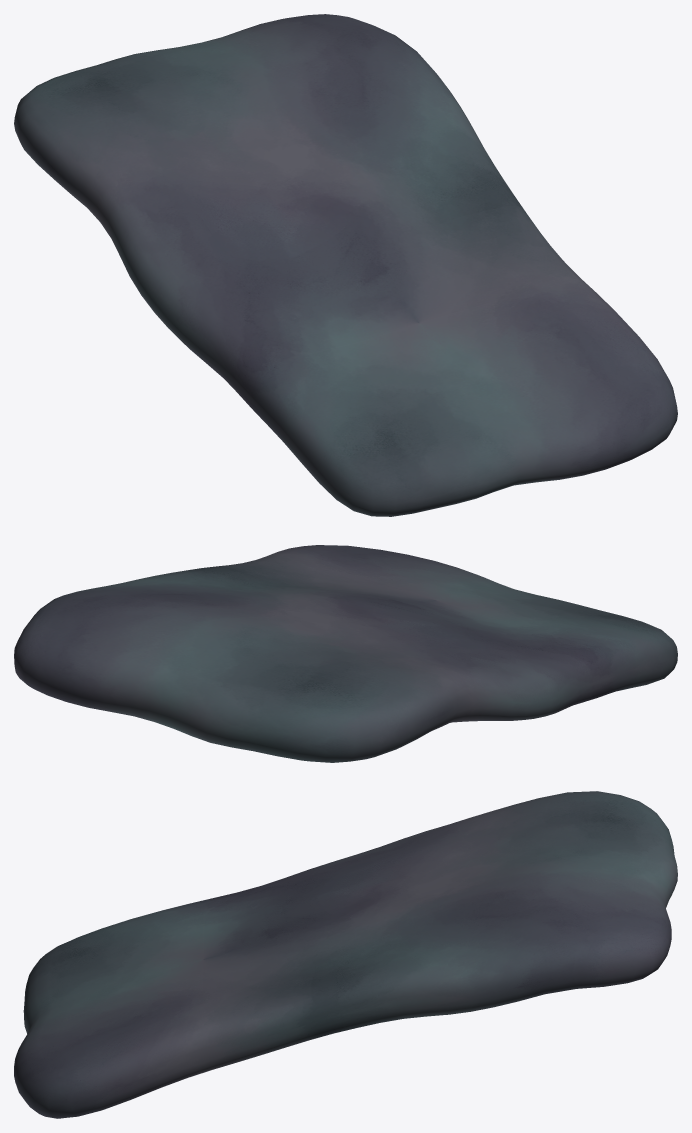
The model's file is RockFlatRamp.fbx.
The picture shows the model from 3 angles, top to bottom: view 1: azimuth 30°, elevation 25°; view 2: azimuth 150°, elevation 25°; view 3: azimuth 270°, elevation 25°; orthographic projection. The views are drawn at different scales.
Parts seen in each view (by area): view 1: RockFlatRamp; view 2: RockFlatRamp; view 3: RockFlatRamp.
Part boxes in pixels (x1,y1,x2,y2): RockFlatRamp: (14,14,677,516); RockFlatRamp: (14,545,677,762); RockFlatRamp: (14,791,677,1118).
Bounding box in the file's own units: 240 × 130 × 394.
Materials: 1 (1 with a texture image).
